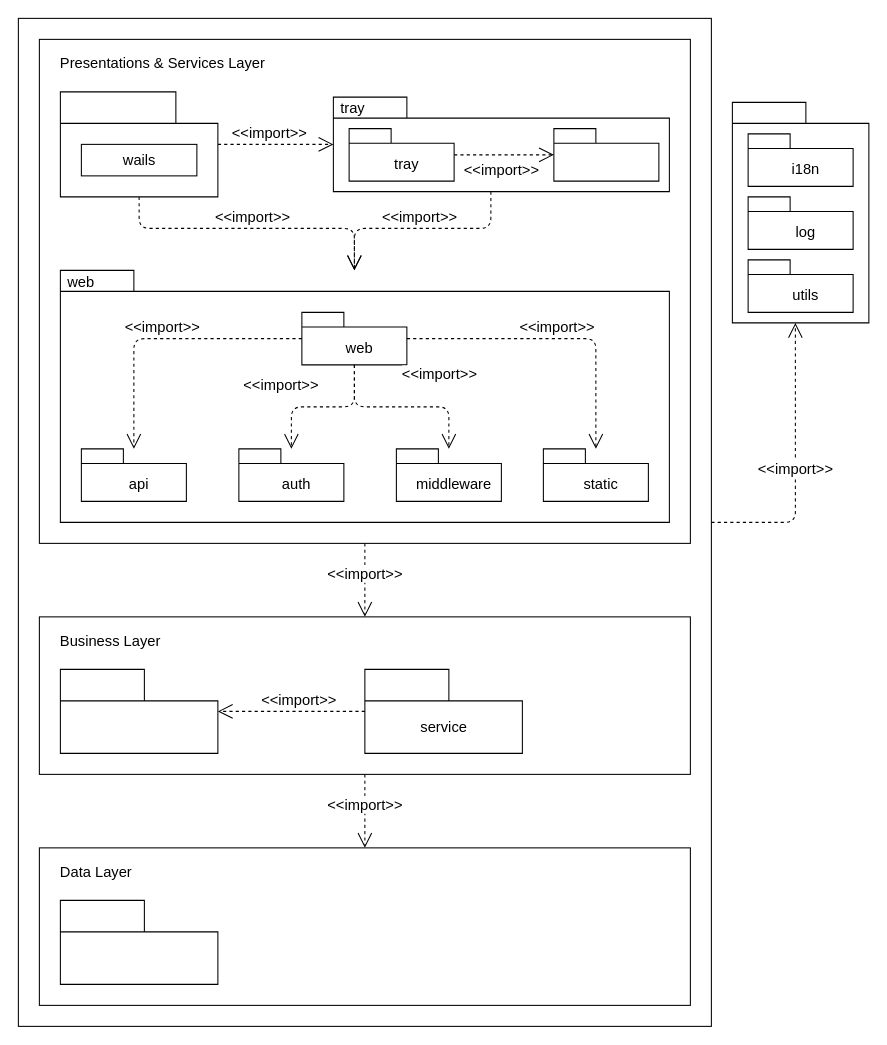
The diagram is 887 pixels wide and 1045 high, and some of its shapes have lost their labels. The shapes that lost their labels are listed below. From the top down, each one's box as (x1, y1, x2, y2) in pixels, then its label:
(59, 91, 218, 197): main
(553, 128, 659, 181): menus
(731, 101, 869, 323): pkg
(59, 668, 218, 753): app
(59, 899, 218, 984): model
